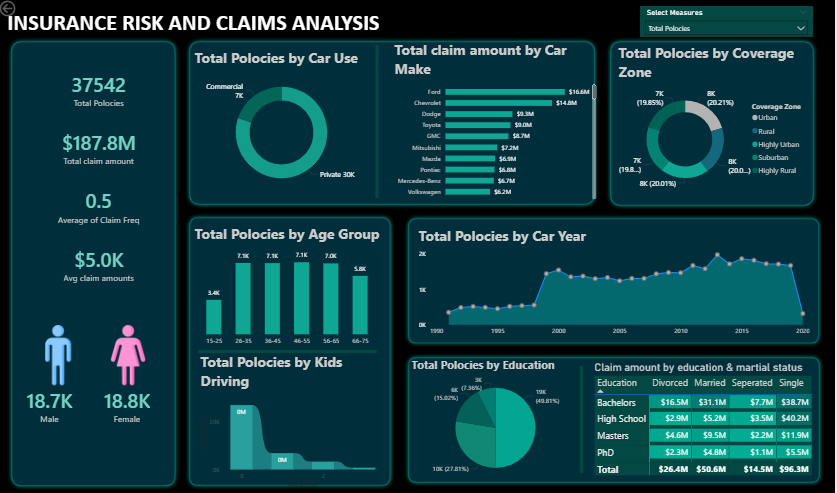

The dashboard page shown, as its layout file describes it:
{"tool":"powerbi","page":{"name":"Page 1","canvas":[1600,950],"ordinal":0},"visuals":[{"type":"textbox","box":[14.7,14.7,739.1,71.4],"z":0},{"type":"shape","box":[18.9,73.5,329.7,865.1],"z":1000},{"type":"cardVisual","fields":{"Data":["insurance_data_car.Male count","insurance_data_car.Female count"]},"box":[19,660.3,311.1,234.9],"z":2000},{"type":"cardVisual","fields":{"Data":["insurance_data_car.Total Polocies","insurance_data_car.Total claim amount","Avg(insurance_data_car.Claim Freq)","insurance_data_car.Avg claim amounts"]},"box":[58.3,112.9,270.9,459.8],"z":3000},{"type":"image","box":[193.2,623.6,115.5,115.5],"z":4000},{"type":"image","box":[58.8,623.6,115.5,115.5],"z":5000},{"type":"slicer","fields":{"Values":["Select Measures.Select Measures"]},"box":[1226.6,15.3,330,59.1],"z":6000},{"type":"shape","box":[358.6,74.4,789.8,328.1],"z":7000},{"type":"donutChart","fields":{"Y":["insurance_data_car.Total Polocies"],"Category":["insurance_data_car.Car Use"]},"box":[372,95.4,341.5,286.1],"z":8000},{"type":"clusteredBarChart","fields":{"Category":["insurance_data_car.Car Make"],"Y":["insurance_data_car.Total claim amount"]},"box":[753.5,80.1,394.9,309],"z":9000},{"type":"shape","box":[1161.7,74.4,404.4,330],"z":10000},{"type":"donutChart","fields":{"Y":["insurance_data_car.Total Polocies"],"Category":["insurance_data_car.Coverage Zone"]},"box":[1180.8,85.8,375.8,295.7],"z":11000},{"type":"shape","box":[358.6,410.1,400,528.4],"z":12000},{"type":"clusteredColumnChart","fields":{"Y":["insurance_data_car.Total Polocies"],"Category":["insurance_data_car.Age Group"]},"box":[372,431.1,364.4,240.4],"z":13000},{"type":"ribbonChart","fields":{"Category":["insurance_data_car.Kids Driving"],"Y":["insurance_data_car.Total Polocies"]},"box":[383.4,675.3,352.9,263.3],"z":13001},{"type":"shape","box":[776.4,412,800,255],"z":13002},{"type":"areaChart","fields":{"Category":["insurance_data_car.Car Year"],"Y":["insurance_data_car.Total Polocies"]},"box":[800,434.6,755.9,218.4],"z":13003},{"type":"shape","box":[776.4,677.2,801.2,255.6],"z":13004},{"type":"pieChart","fields":{"Category":["insurance_data_car.Education"],"Y":["insurance_data_car.Total Polocies"]},"box":[785.9,684.8,330,242.3],"z":13005},{"type":"pivotTable","title":"Claim amount by education & martial status","fields":{"Rows":["insurance_data_car.Education"],"Columns":["insurance_data_car.Marital Status"],"Values":["insurance_data_car.Total claim amount"]},"box":[1135,692.5,431.1,228.9],"z":13006},{"type":"actionButton","box":[0,0,100,40],"z":13007},{"type":"shape","box":[574.2,89.7,301.4,291.9],"z":13008},{"type":"shape","box":[967.2,702,295.7,204.1],"z":13009},{"type":"shape","box":[383.4,528.4,341.5,291.9],"z":13010}]}

Visuals, with their boxes in screenshot pixels (x1, y1, x2, y2), scaled from the page's 1600x950 canvas onto the 837x493 screenshot:
textbox: <region>8, 8, 394, 45</region>
shape: <region>10, 38, 182, 487</region>
cardVisual - insurance_data_car.Male count x insurance_data_car.Female count: <region>10, 343, 173, 465</region>
cardVisual - insurance_data_car.Total Polocies x insurance_data_car.Total claim amount: <region>30, 59, 172, 297</region>
image: <region>101, 324, 161, 384</region>
image: <region>31, 324, 91, 384</region>
slicer - Select Measures.Select Measures: <region>642, 8, 814, 39</region>
shape: <region>188, 39, 601, 209</region>
donutChart - insurance_data_car.Total Polocies x insurance_data_car.Car Use: <region>195, 50, 373, 198</region>
clusteredBarChart - insurance_data_car.Car Make x insurance_data_car.Total claim amount: <region>394, 42, 601, 202</region>
shape: <region>608, 39, 819, 210</region>
donutChart - insurance_data_car.Total Polocies x insurance_data_car.Coverage Zone: <region>618, 45, 814, 198</region>
shape: <region>188, 213, 397, 487</region>
clusteredColumnChart - insurance_data_car.Total Polocies x insurance_data_car.Age Group: <region>195, 224, 385, 348</region>
ribbonChart - insurance_data_car.Kids Driving x insurance_data_car.Total Polocies: <region>201, 350, 385, 487</region>
shape: <region>406, 214, 825, 346</region>
areaChart - insurance_data_car.Car Year x insurance_data_car.Total Polocies: <region>418, 226, 814, 339</region>
shape: <region>406, 351, 825, 484</region>
pieChart - insurance_data_car.Education x insurance_data_car.Total Polocies: <region>411, 355, 584, 481</region>
"Claim amount by education & martial status" pivotTable: <region>594, 359, 819, 478</region>
actionButton: <region>0, 0, 52, 21</region>
shape: <region>300, 47, 458, 198</region>
shape: <region>506, 364, 661, 470</region>
shape: <region>201, 274, 379, 426</region>
